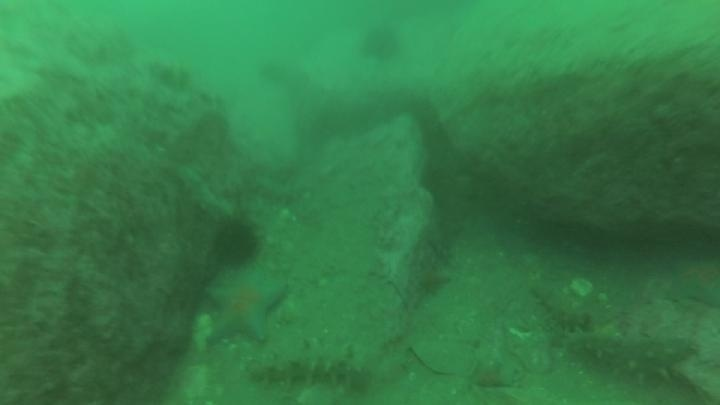echinus: (209, 215, 262, 269), (357, 22, 404, 65)
holothurian: (245, 337, 371, 390), (582, 343, 720, 388), (175, 162, 240, 224), (528, 279, 592, 336), (556, 322, 629, 362)
starfish: (201, 266, 290, 347), (660, 251, 720, 311)
